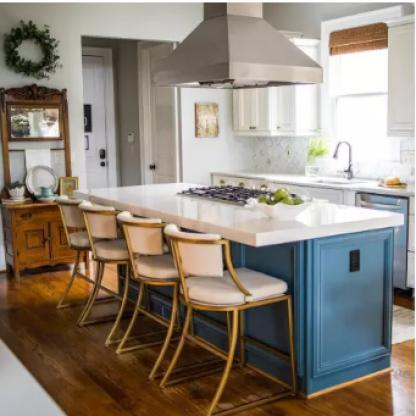chair: (161, 224, 304, 409), (114, 212, 195, 363), (74, 202, 130, 334), (43, 194, 86, 312)
door: (141, 38, 179, 179), (80, 44, 114, 188)
table: (73, 177, 404, 395)
